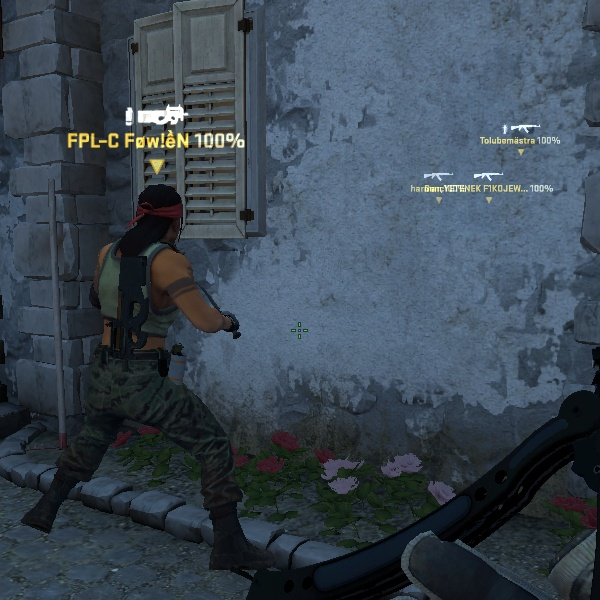t_body: (32, 182, 246, 542)
t_head: (124, 178, 199, 251)
